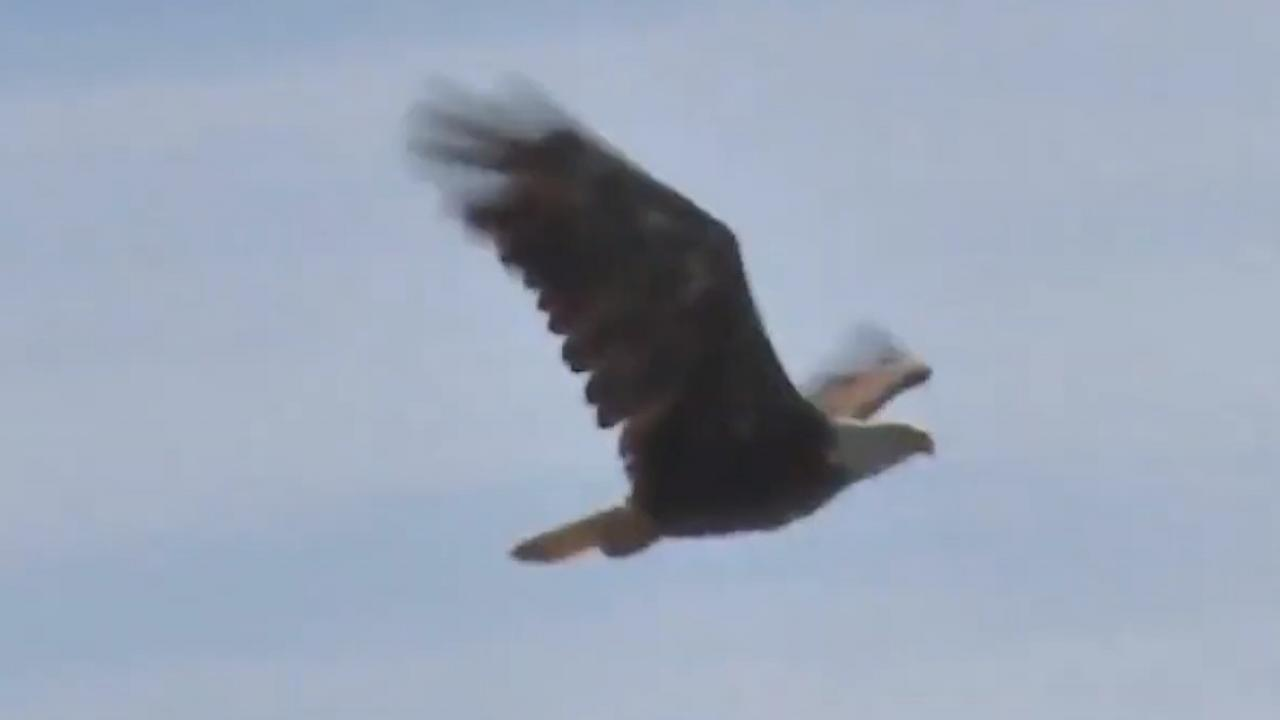Bird: (391, 51, 946, 571)
